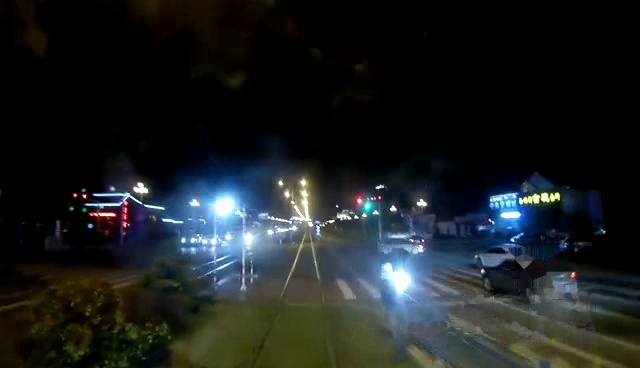car: (481, 262, 581, 301), (471, 242, 533, 270), (373, 232, 431, 257)
